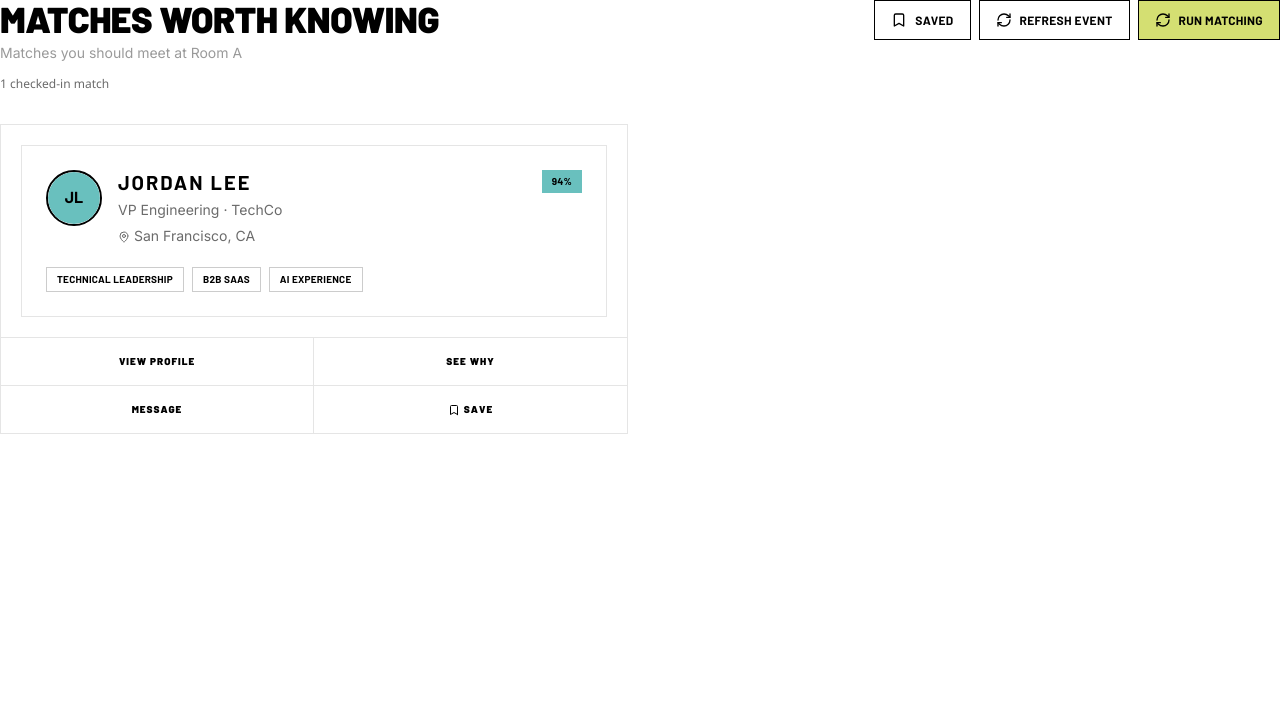
Matches card › opens the reason in a modal from See Why, and closing it hides the reason
Expected: the button "Jordan Lee" is shown, [118, 170, 251, 195]
Expected: the text "hiring engineering talent" is not shown
What coordinates should you click on to do the following:
click the button "See Why"
I would click on:
 (470, 362)
Its box is [314, 338, 627, 386].
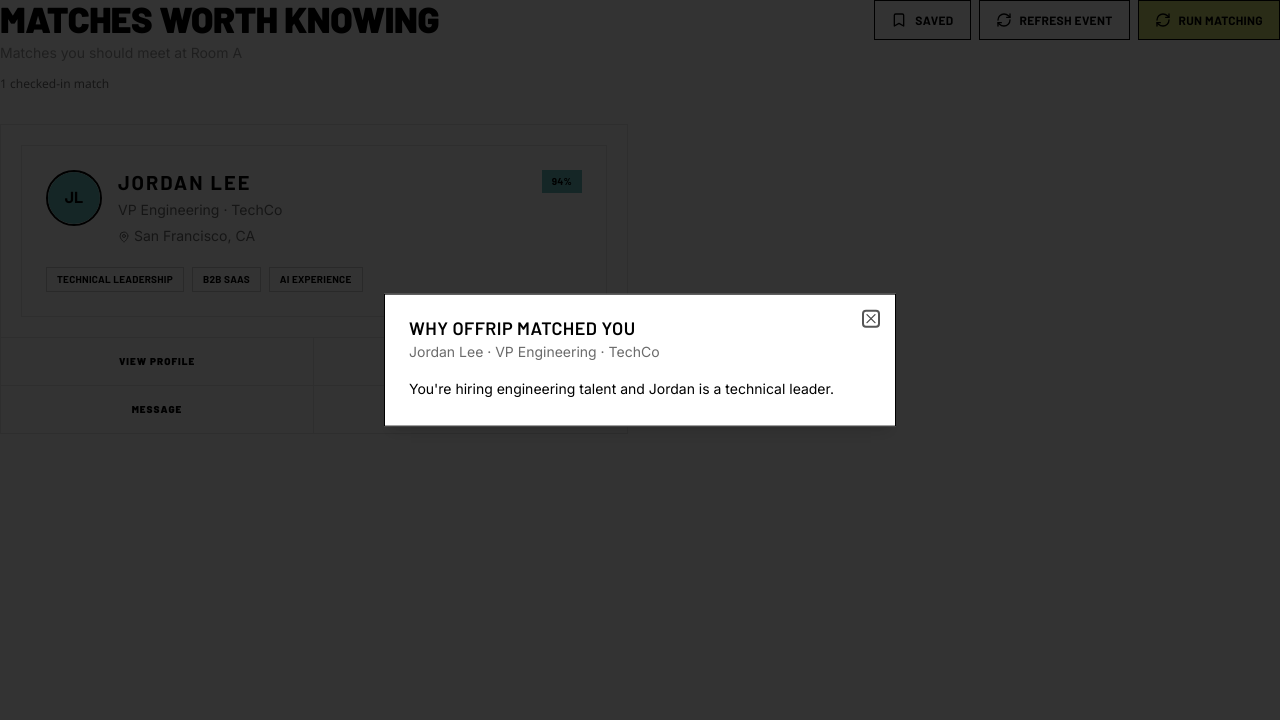
Result: the heading "Why OFFRIP matched you" is shown at [409, 317, 636, 339]
Result: the text "hiring engineering talent" is shown at [409, 381, 834, 398]
What coordinates should you click on to do the following:
click the button named "close"
I would click on:
 (871, 319)
Its box is [863, 311, 879, 327].
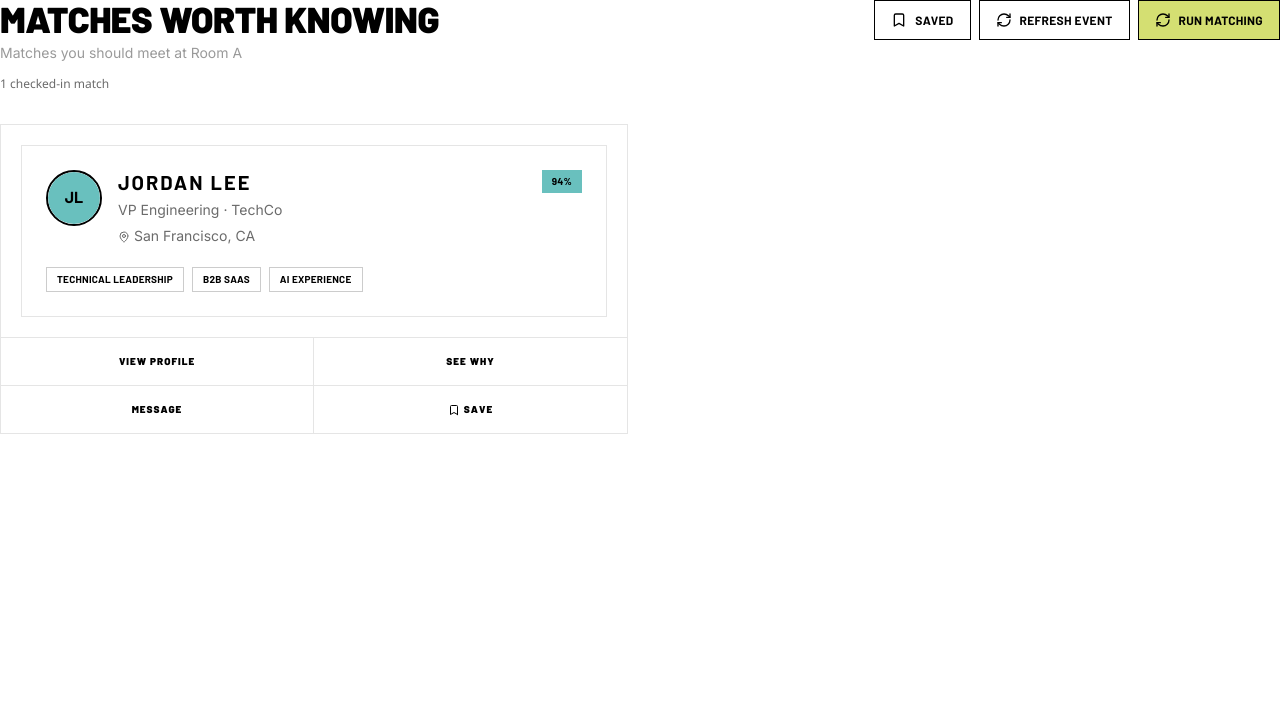
Result: the dialog is gone
Result: the text "hiring engineering talent" is gone
